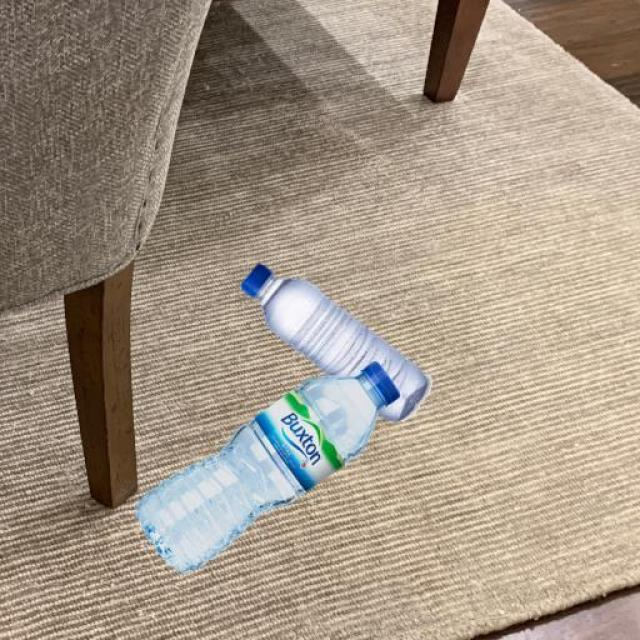bottle: (132, 365, 401, 579), (238, 257, 432, 423)
